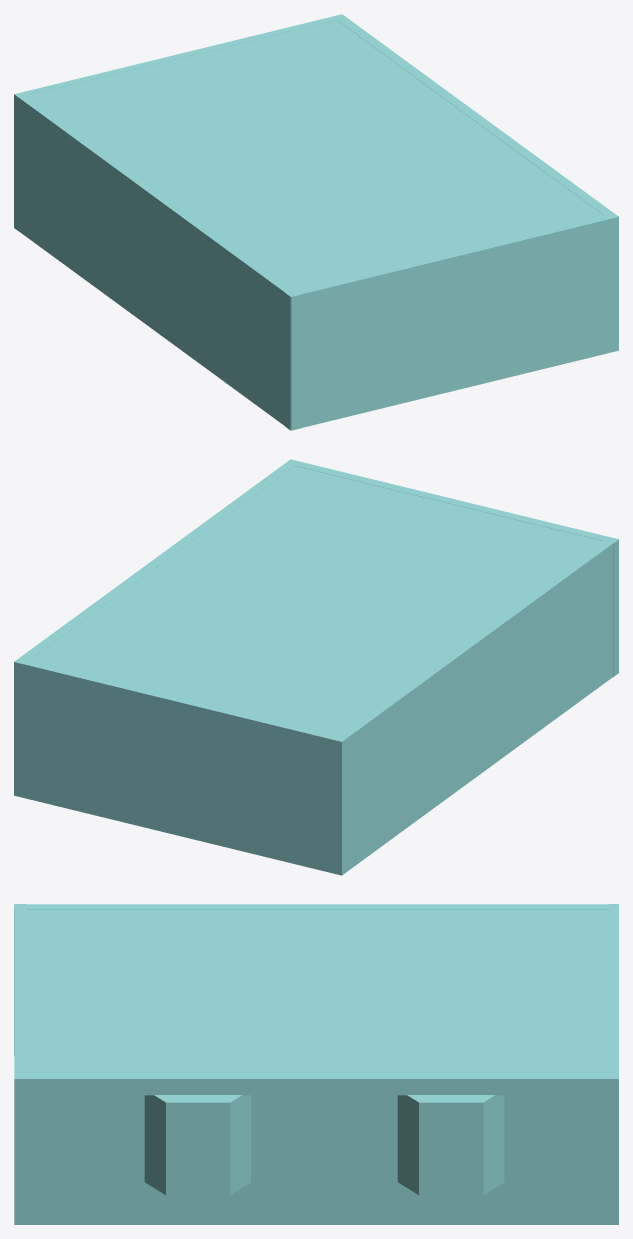
The model's file is FYP_diningroom_greybox.fbx.
3 views of the same model, one above another, from view 1: azimuth 30°, elevation 25°; view 2: azimuth 150°, elevation 25°; view 3: azimuth 270°, elevation 25° (orthographic). The views are drawn at different scales.
Visible parts, largest first — view 1: pPlane2, wall04, wall01, wall03, wall02; view 2: pPlane2, wall02, wall01, wall03, wall04; view 3: pPlane2, wall03, pCube16, pCube17, wall01, wall04, wall02.
Boxes of the visible parts, x1,y1,x2,y2 form: pPlane2: (30, 20, 602, 289); wall04: (285, 214, 618, 430); wall01: (15, 92, 301, 430); wall03: (336, 15, 618, 218); wall02: (14, 14, 346, 230); pPlane2: (29, 466, 601, 735); wall02: (14, 658, 346, 875); wall01: (332, 536, 618, 871); wall03: (15, 459, 299, 662); wall04: (287, 459, 618, 676); pPlane2: (26, 910, 608, 1073); wall03: (14, 1073, 618, 1224); pCube16: (397, 1095, 504, 1195); pCube17: (144, 1095, 250, 1195); wall01: (14, 904, 618, 1055); wall04: (14, 904, 26, 1224); wall02: (608, 904, 618, 1224).
Size of the model in its own units: 266 by 99.74 by 373.
